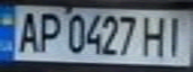0: (63, 11, 87, 54)
2: (100, 11, 121, 56)
4: (84, 11, 106, 56)
7: (118, 11, 142, 57)
A: (12, 8, 42, 54)
H: (139, 12, 172, 57)
I: (163, 12, 193, 59)
P: (33, 9, 63, 53)
